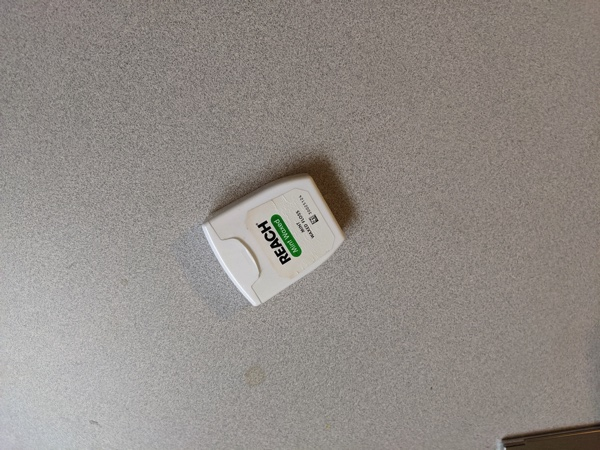plastic: (190, 158, 374, 318)
